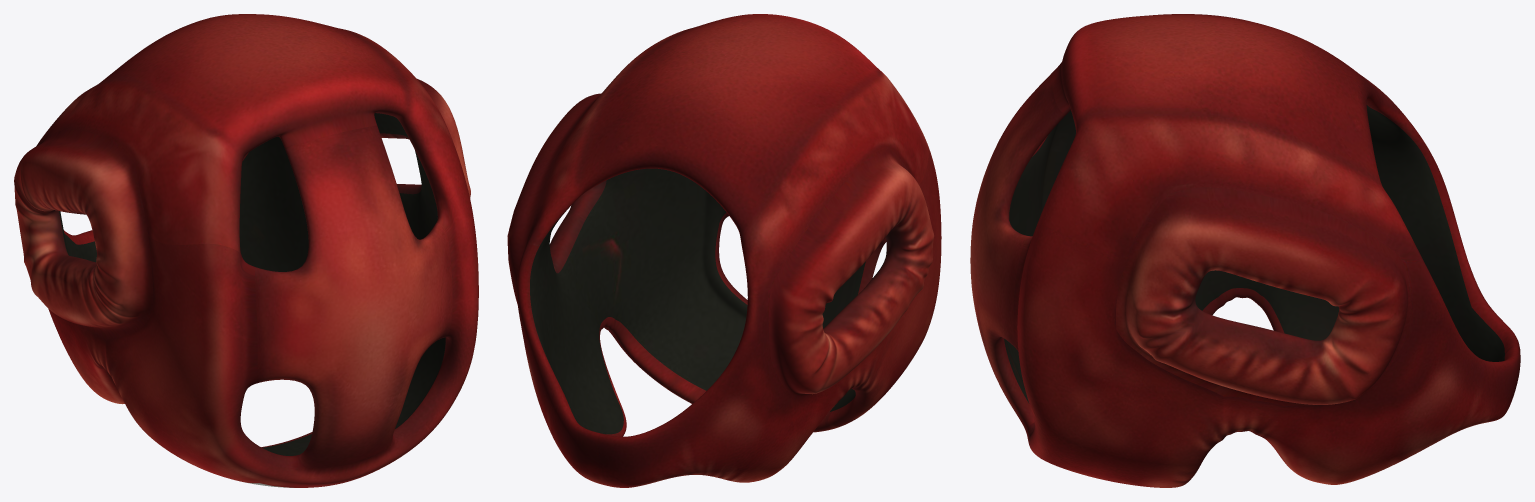
Rendered from Head_gear.glb.
The picture shows the model from 3 angles, left to right: view 1: azimuth 30°, elevation 25°; view 2: azimuth 150°, elevation 25°; view 3: azimuth 270°, elevation 25°; orthographic projection. The views are drawn at different scales.
Parts seen in each view (by area): view 1: 11718_boxing_headgear_v3_L3.001; view 2: 11718_boxing_headgear_v3_L3.001; view 3: 11718_boxing_headgear_v3_L3.001.
Boxes of the visible parts, box(x1,y1,x2,y2) form: 11718_boxing_headgear_v3_L3.001: box(14, 14, 478, 487); 11718_boxing_headgear_v3_L3.001: box(507, 14, 941, 487); 11718_boxing_headgear_v3_L3.001: box(970, 14, 1520, 487).
Bounding box in the file's own units: 0.9596 × 1.05 × 1.22.
Materials: 1 (1 with a texture image).
